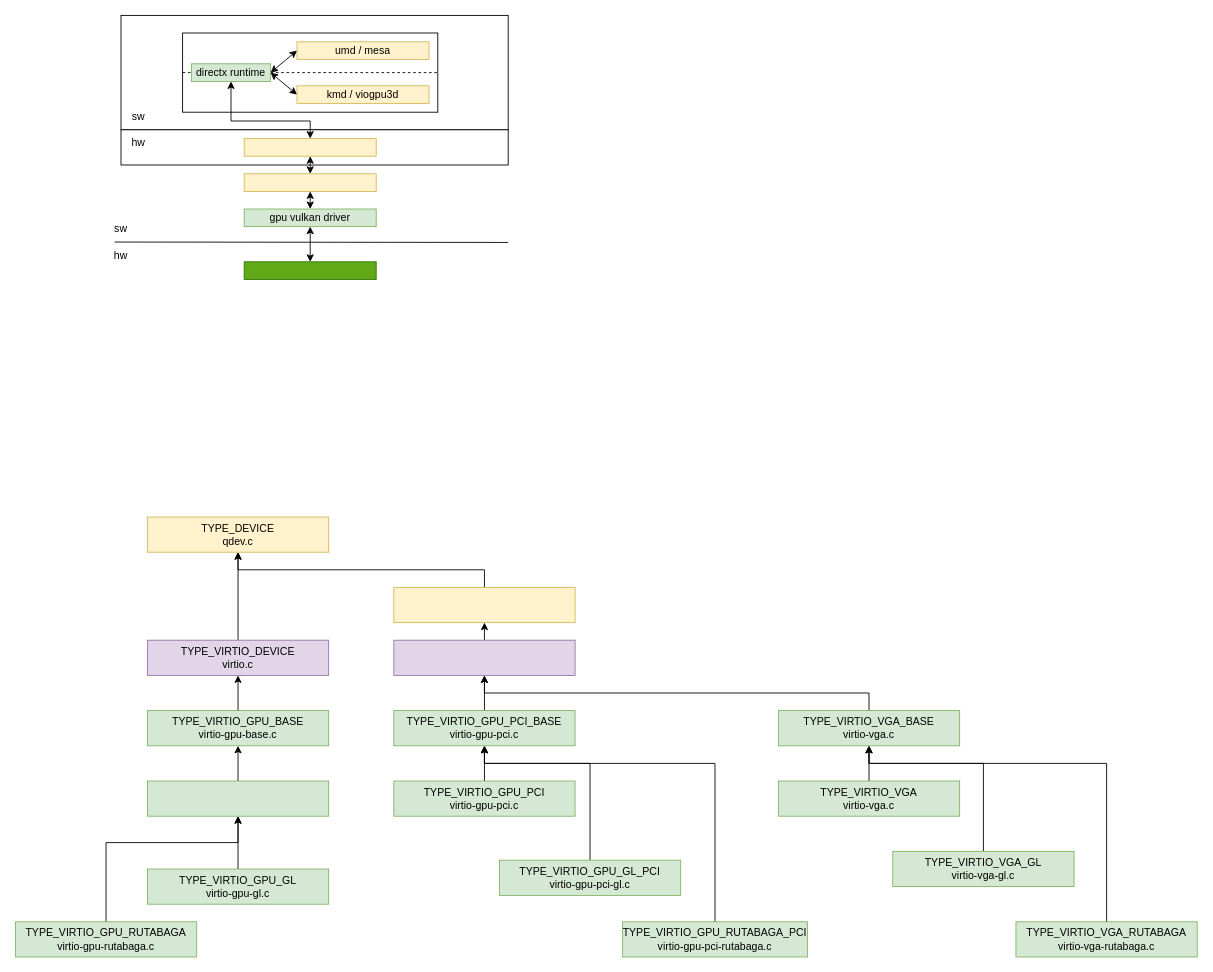
This 1213x972 diagram has some shape labels left out. The shapes that lost their labels are listed below. From the top down, each one's box as (x1, y1, x2, y2) in pixels, then its label:
(182, 32, 438, 112): windows
(120, 15, 508, 130): qemu
(243, 138, 376, 156): vio-gpu-pci-gl
(243, 173, 376, 191): virglrenderer
(243, 261, 376, 279): gpu hardware
(393, 587, 575, 623): TYPE_PCI_DEVICE pci.c
(393, 639, 575, 675): TYPE_VIRTIO_PCI virtio-pci.c
(147, 780, 329, 816): TYPE_VIRTIO_GPU virtio-gpu.c
